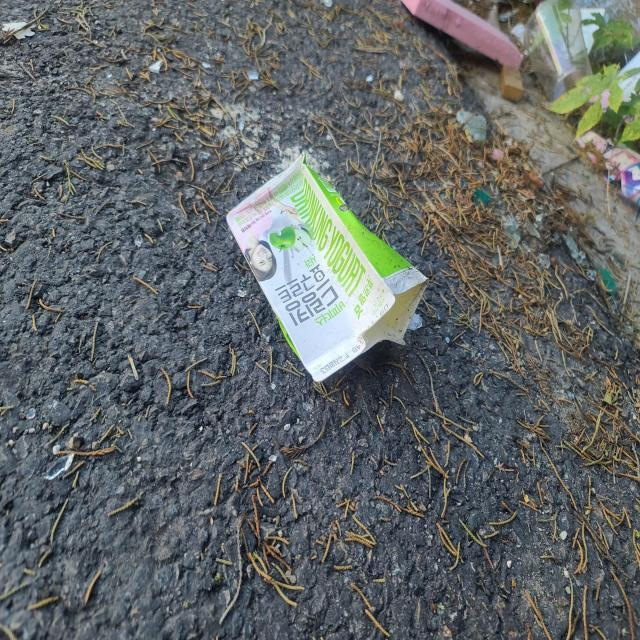paperpack: (226, 154, 429, 382)
